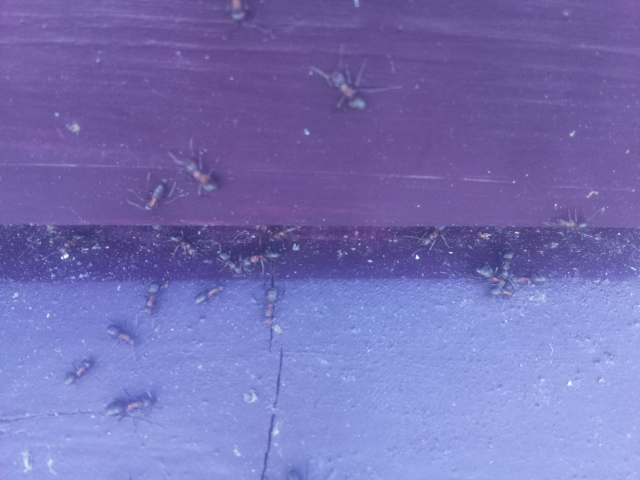ant: (163, 144, 228, 201), (323, 60, 375, 119), (467, 256, 517, 305), (98, 390, 162, 418), (139, 174, 176, 216), (139, 273, 169, 323), (262, 282, 285, 334), (241, 246, 291, 267), (195, 283, 226, 306)
